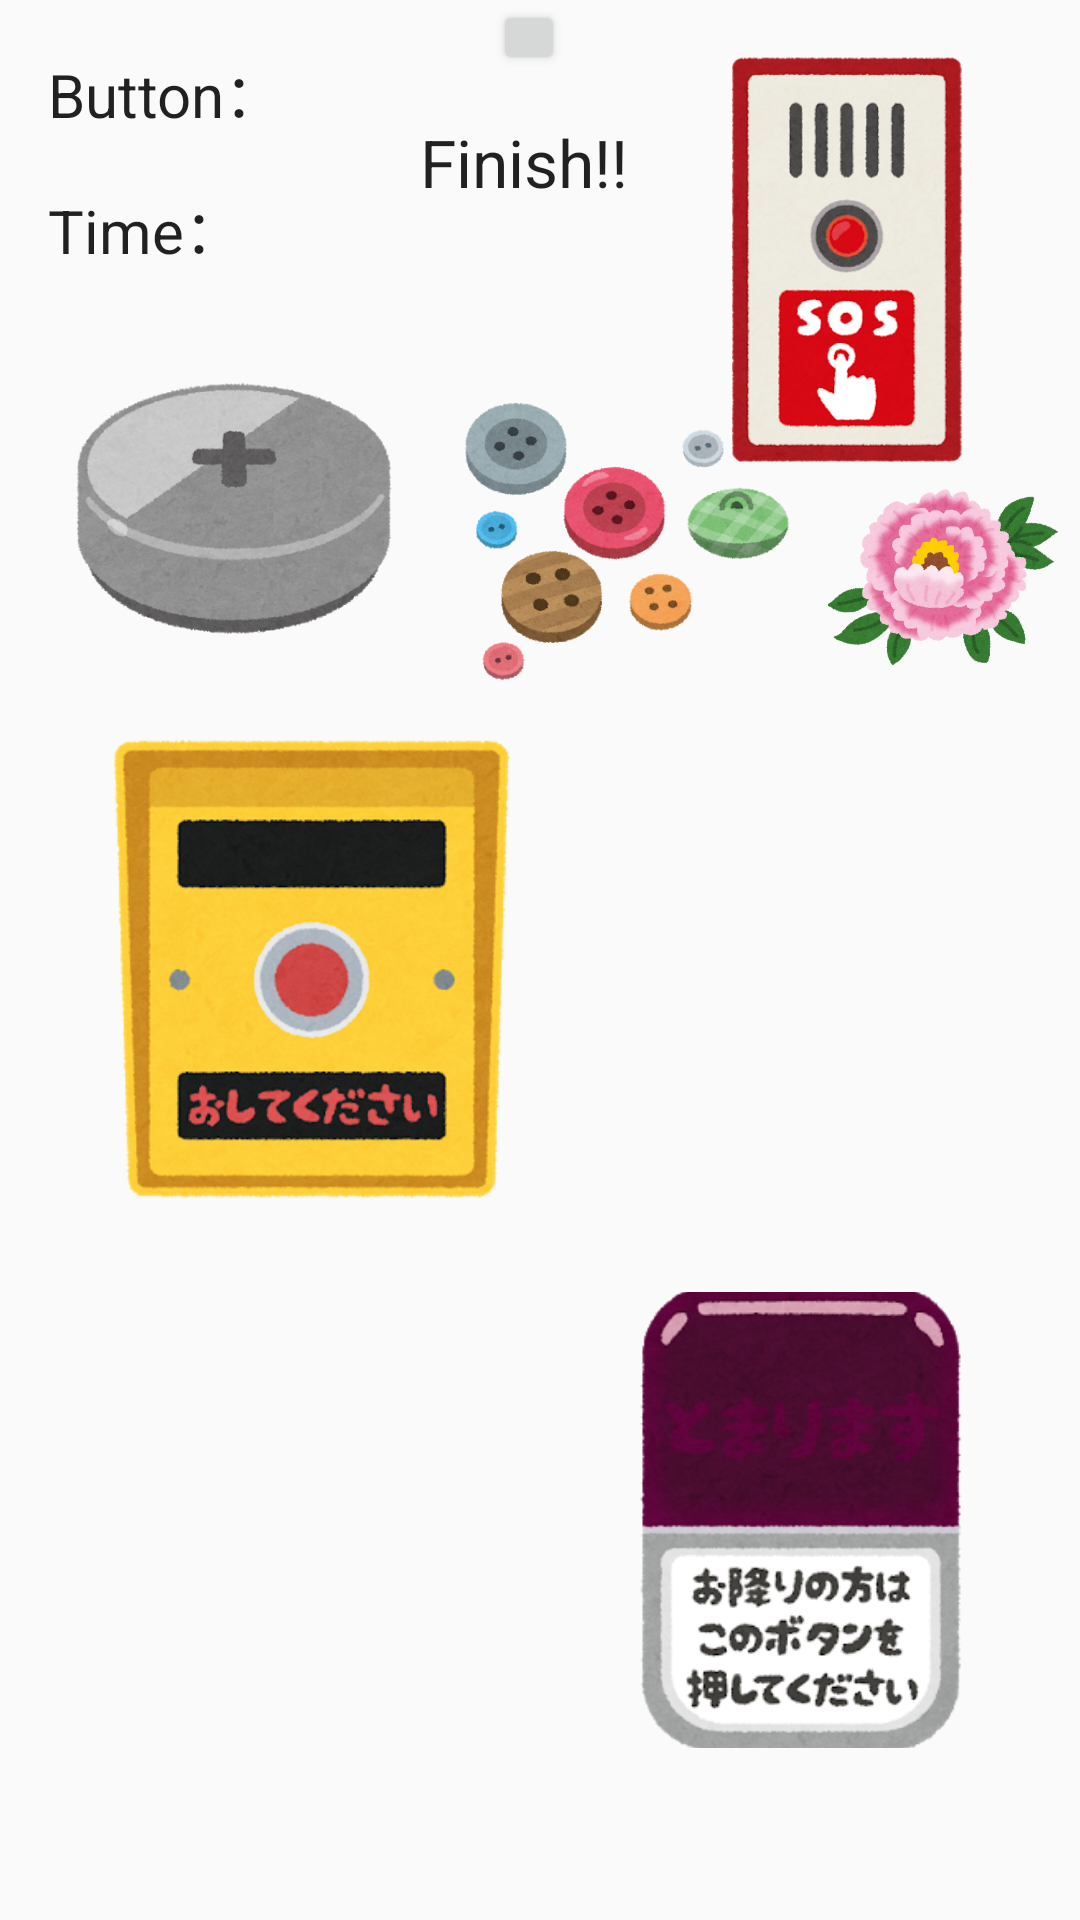

Where to tap for icons on this 1080px x 1920px app screen, as point (x, y):
battery denchi: point (234, 508)
flower botan: point (943, 577)
saihou: point (627, 542)
